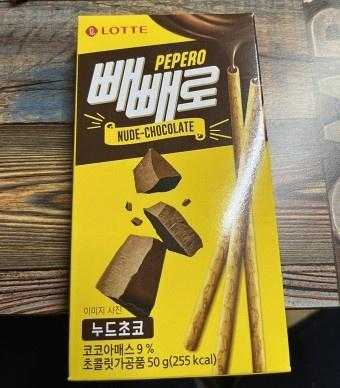snack: (68, 9, 291, 381)
